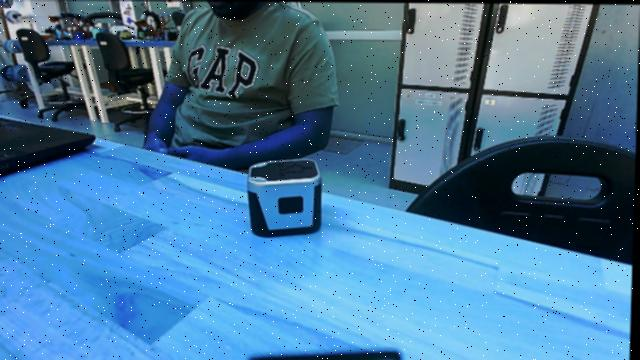adapter: (240, 152, 329, 239)
